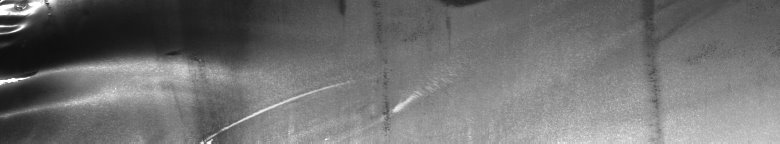ke: (4, 4, 474, 136)
